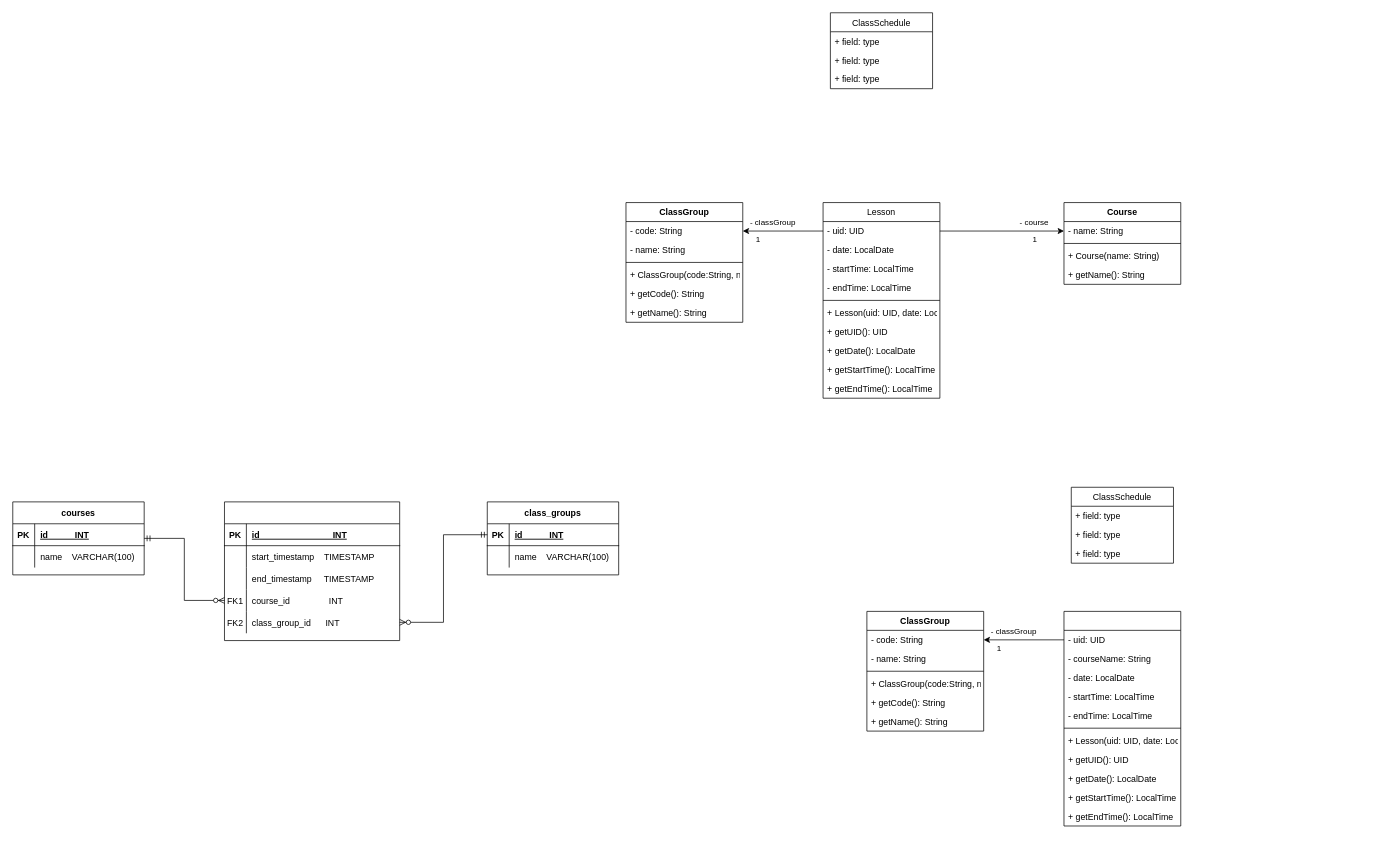
Some shapes in this 1389 by 841 pixel diagram are drawn without their labels. Each missing label, with the box of its shape:
Lecture: (1063, 611, 1181, 826)
lessons: (224, 501, 400, 641)
